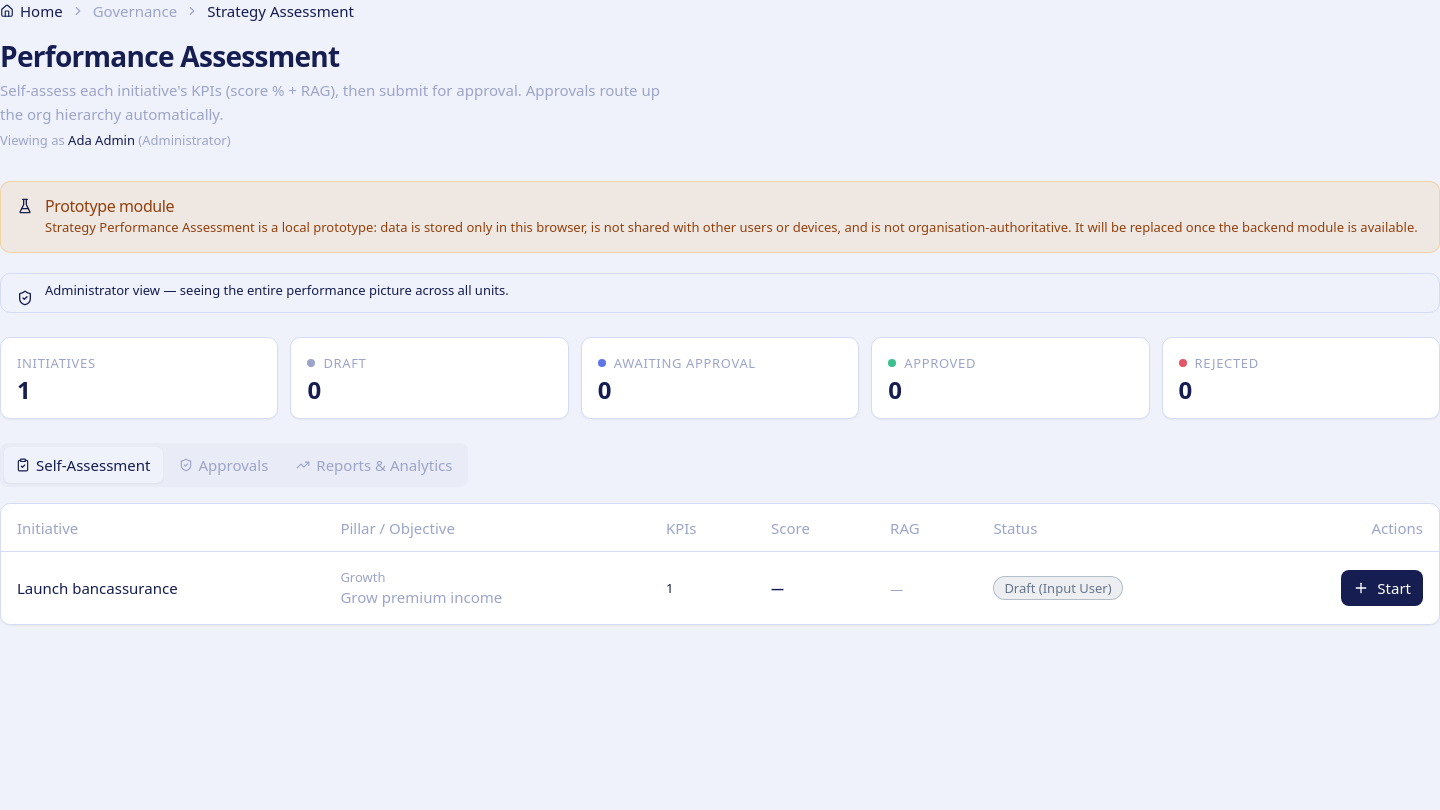
Test case: StrategyAssessment › shows pillar performance and insights on the reports tab
This screenshot has width=1440, height=810.
Press the mouse on the tab "Reports & Analytics" at (374, 465), box [284, 447, 464, 483]
(page scrolled)
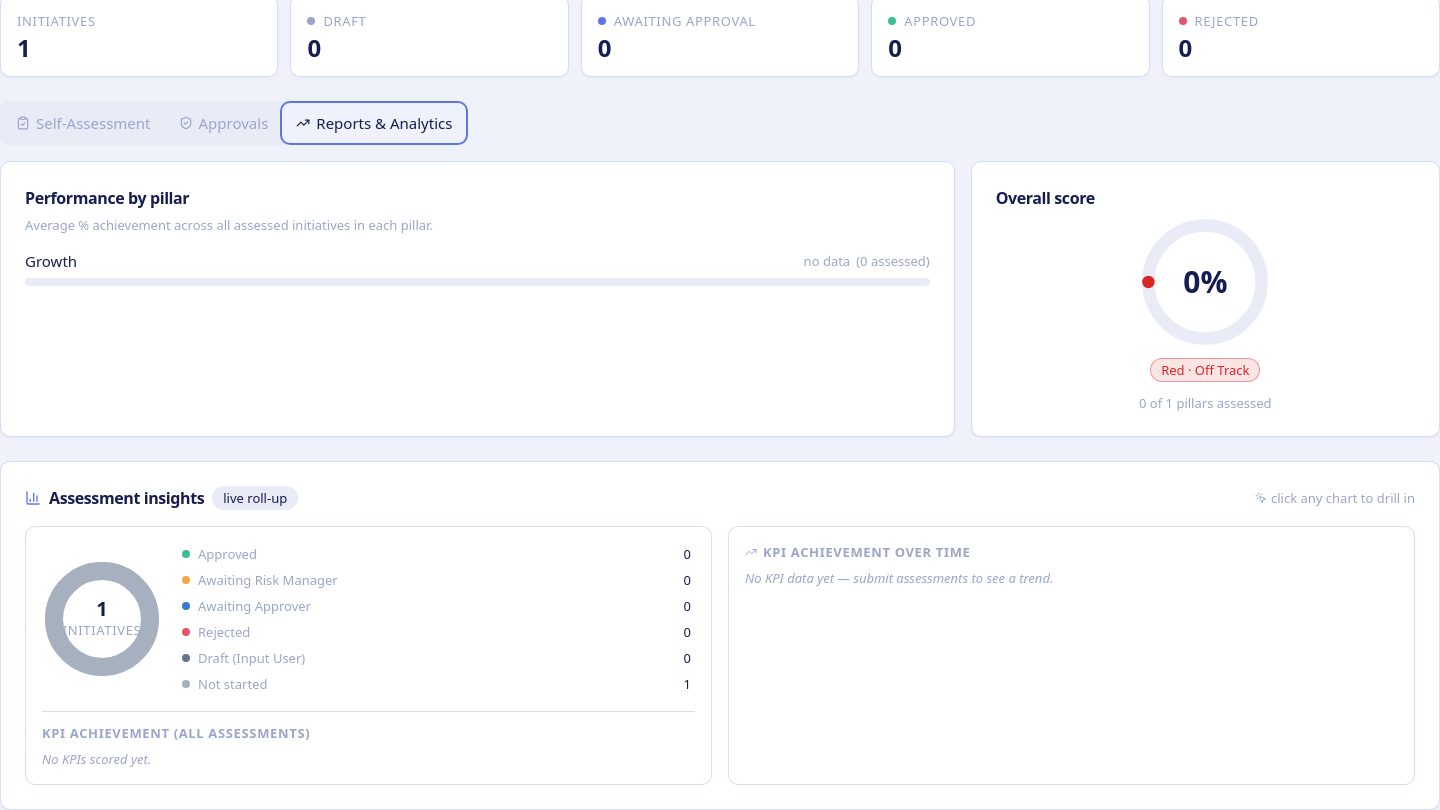
Now the text "Performance by pillar" is shown, box [25, 187, 189, 209]
Now the text "Assessment insights" is shown, box [49, 486, 204, 510]
